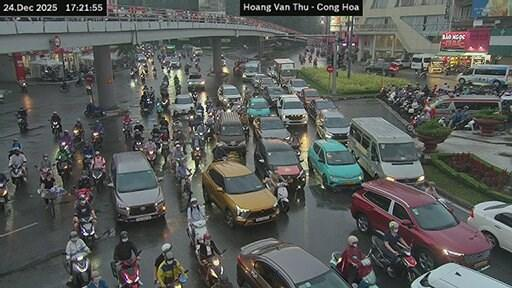motorbike: (196, 250, 231, 287), (112, 251, 140, 286), (394, 248, 419, 282), (66, 252, 89, 286), (352, 256, 377, 287), (265, 178, 288, 210), (368, 234, 389, 268), (186, 216, 207, 250), (80, 217, 95, 246), (330, 252, 345, 279), (165, 270, 186, 287), (10, 163, 22, 188), (90, 166, 103, 189), (73, 187, 92, 202), (83, 103, 105, 115), (35, 165, 51, 180), (192, 144, 201, 169), (0, 179, 7, 210), (57, 160, 69, 178), (144, 148, 156, 166), (90, 130, 101, 149), (160, 140, 169, 162), (60, 139, 73, 153), (406, 116, 418, 130), (83, 153, 92, 171), (122, 121, 131, 139), (73, 126, 83, 142), (51, 121, 60, 136), (16, 116, 25, 131), (140, 103, 150, 116), (131, 139, 141, 151), (152, 133, 160, 148), (58, 82, 69, 91), (243, 124, 249, 139), (74, 76, 83, 85), (416, 70, 426, 77), (19, 81, 26, 91), (192, 90, 197, 102), (130, 71, 135, 79), (140, 76, 144, 84), (153, 70, 156, 77), (86, 90, 91, 94), (220, 248, 224, 252), (86, 85, 89, 88)
